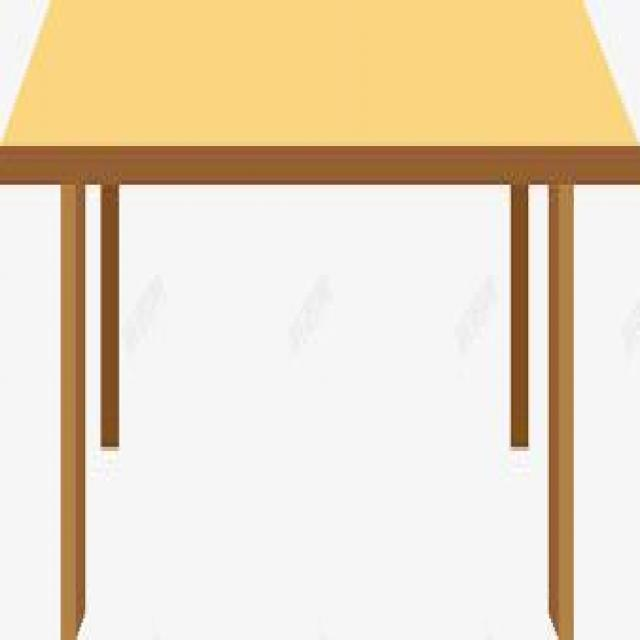table: (7, 9, 626, 622)
